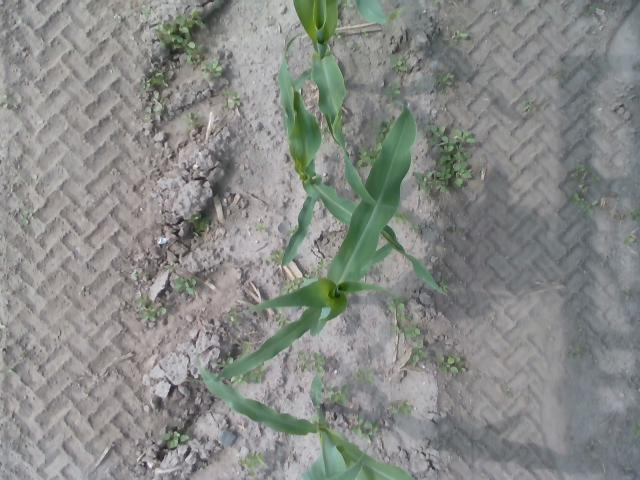Maize: (188, 102, 416, 386), (278, 31, 448, 296), (194, 352, 416, 479), (292, 1, 390, 209), (324, 447, 369, 480), (353, 0, 404, 26)
Weeds: (414, 126, 475, 197), (155, 9, 208, 64), (134, 295, 170, 323), (350, 414, 380, 444), (570, 164, 599, 191), (138, 67, 170, 91), (432, 354, 468, 374), (390, 292, 412, 323), (292, 350, 326, 370), (188, 212, 213, 237), (410, 340, 430, 371), (570, 192, 598, 214), (160, 430, 190, 450), (171, 276, 198, 295), (236, 451, 266, 468), (386, 400, 414, 418), (198, 58, 223, 78), (222, 86, 242, 111), (324, 386, 349, 406), (390, 52, 410, 75), (146, 99, 166, 122), (390, 325, 424, 338), (353, 367, 375, 387), (380, 80, 400, 100), (356, 146, 376, 166), (436, 70, 454, 90), (548, 66, 566, 84), (452, 29, 471, 46), (313, 258, 329, 278), (281, 278, 303, 292), (518, 97, 536, 114), (248, 366, 264, 385), (376, 118, 391, 138), (584, 3, 604, 18), (186, 112, 203, 129), (268, 247, 282, 266), (230, 374, 248, 388), (229, 308, 241, 328), (566, 345, 582, 360), (208, 356, 225, 370), (276, 309, 290, 325), (20, 208, 34, 224), (254, 222, 272, 234), (394, 210, 408, 224), (620, 284, 634, 298), (77, 286, 92, 299), (141, 3, 154, 17), (162, 261, 182, 270), (409, 221, 422, 234), (446, 226, 464, 235), (630, 206, 640, 222), (583, 440, 596, 452), (621, 236, 636, 246), (240, 340, 252, 352), (631, 422, 640, 438), (504, 386, 516, 398), (129, 268, 140, 280), (0, 93, 8, 109), (226, 350, 235, 364), (594, 398, 608, 406), (331, 32, 343, 41), (439, 281, 448, 292), (339, 0, 355, 6), (286, 226, 298, 234), (246, 470, 258, 478), (349, 42, 358, 52), (114, 13, 125, 21), (442, 36, 452, 44), (361, 30, 371, 38), (20, 352, 30, 360), (302, 270, 310, 280), (118, 300, 126, 310), (32, 175, 39, 184), (465, 440, 472, 447), (432, 0, 438, 6), (142, 270, 149, 274)
